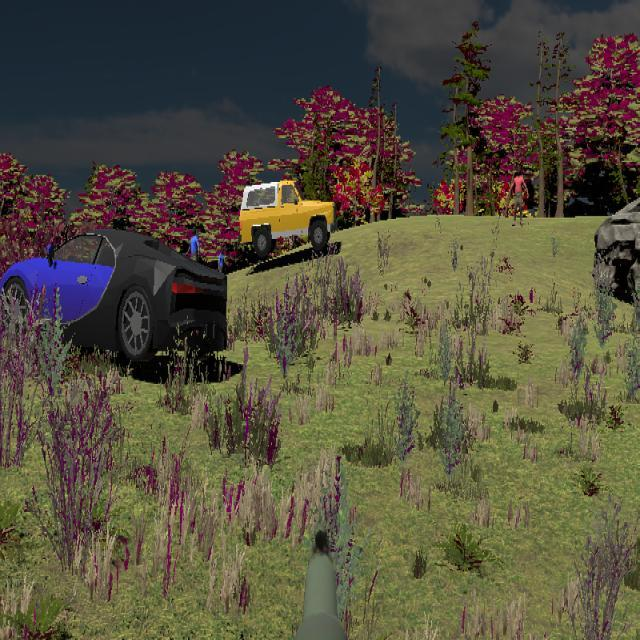Human: (509, 167, 529, 227), (186, 226, 201, 283)
car: (0, 229, 228, 368), (239, 180, 335, 261)
